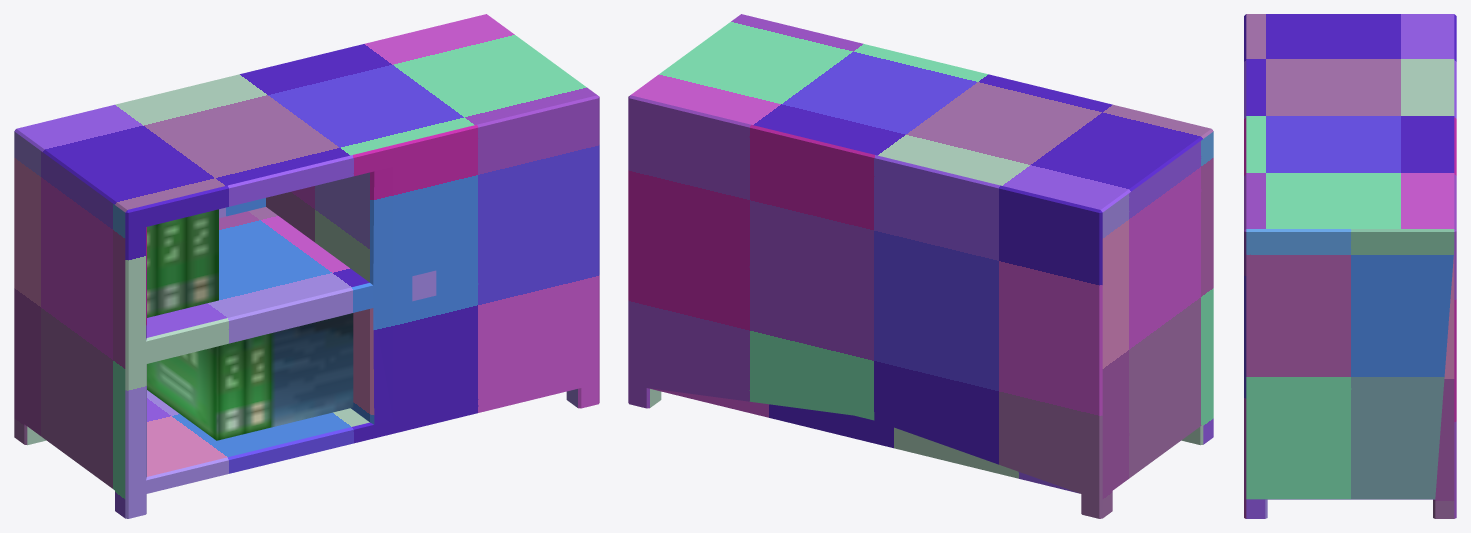
File: rmk_blu_bookshelf_jwl.dae
The picture shows the model from 3 angles, left to right: view 1: azimuth 30°, elevation 25°; view 2: azimuth 150°, elevation 25°; view 3: azimuth 270°, elevation 25°; orthographic projection. The views are drawn at different scales.
Visible parts, largest first — view 1: rmk_blu_bookshelf_jwl; view 2: rmk_blu_bookshelf_jwl; view 3: rmk_blu_bookshelf_jwl.
Part boxes in pixels (box(x1,y1,x2,y2)): rmk_blu_bookshelf_jwl: box(14, 14, 599, 518); rmk_blu_bookshelf_jwl: box(628, 14, 1213, 518); rmk_blu_bookshelf_jwl: box(1244, 14, 1456, 518).
Bounding box in the file's own units: 57.99 × 36 × 24.17.
Materials: 2 (2 with a texture image).
